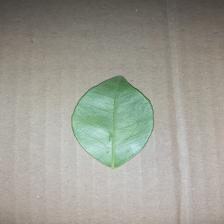greening: (72, 71, 162, 170)
